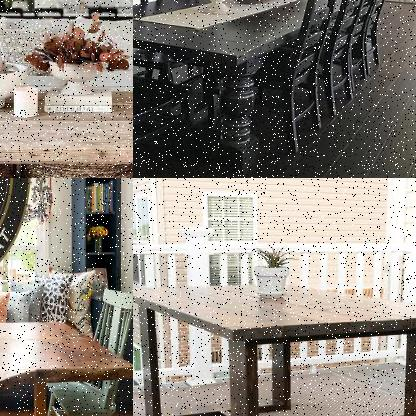table: (133, 0, 373, 177), (133, 273, 415, 415), (0, 314, 132, 415), (0, 84, 132, 177)
